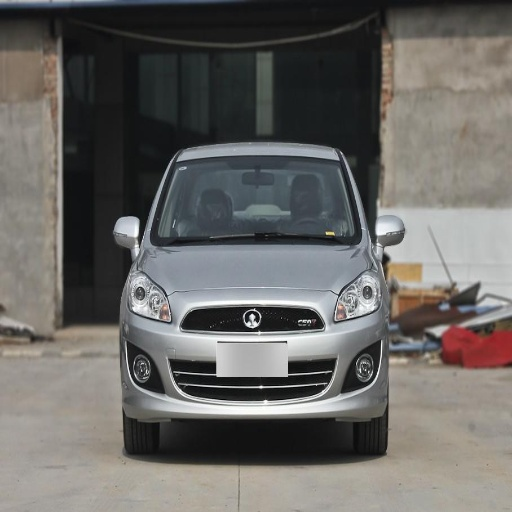front_bumper: (123, 291, 386, 419)
front_right_light: (127, 273, 172, 323)
hood: (141, 243, 369, 292)
